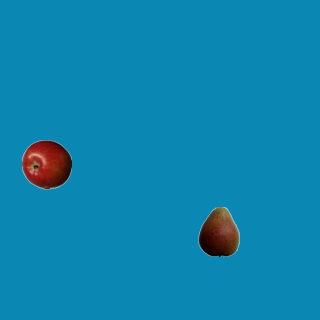Apple Braeburn: (21, 139, 71, 189)
Pear Forelle: (193, 206, 243, 256)
